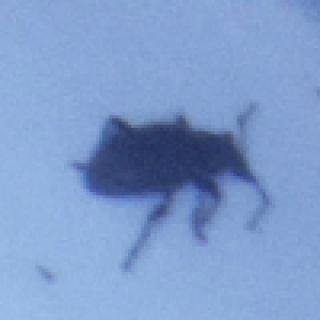bvw: (65, 98, 276, 274)
